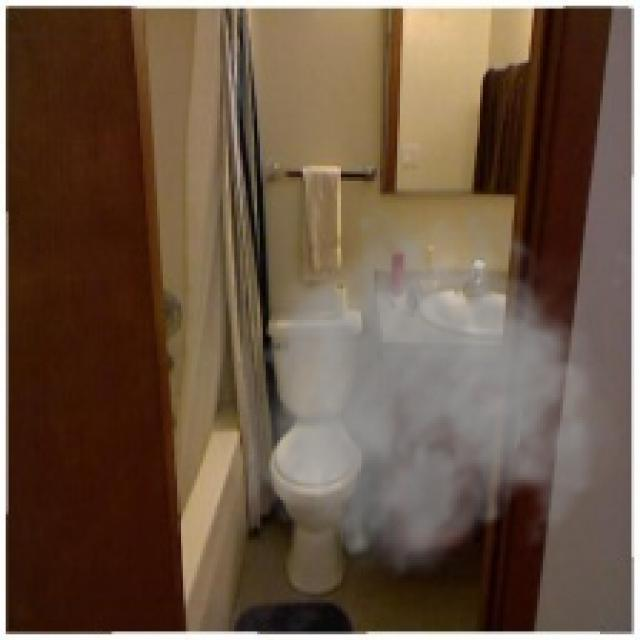Smoke: (248, 200, 632, 586)
